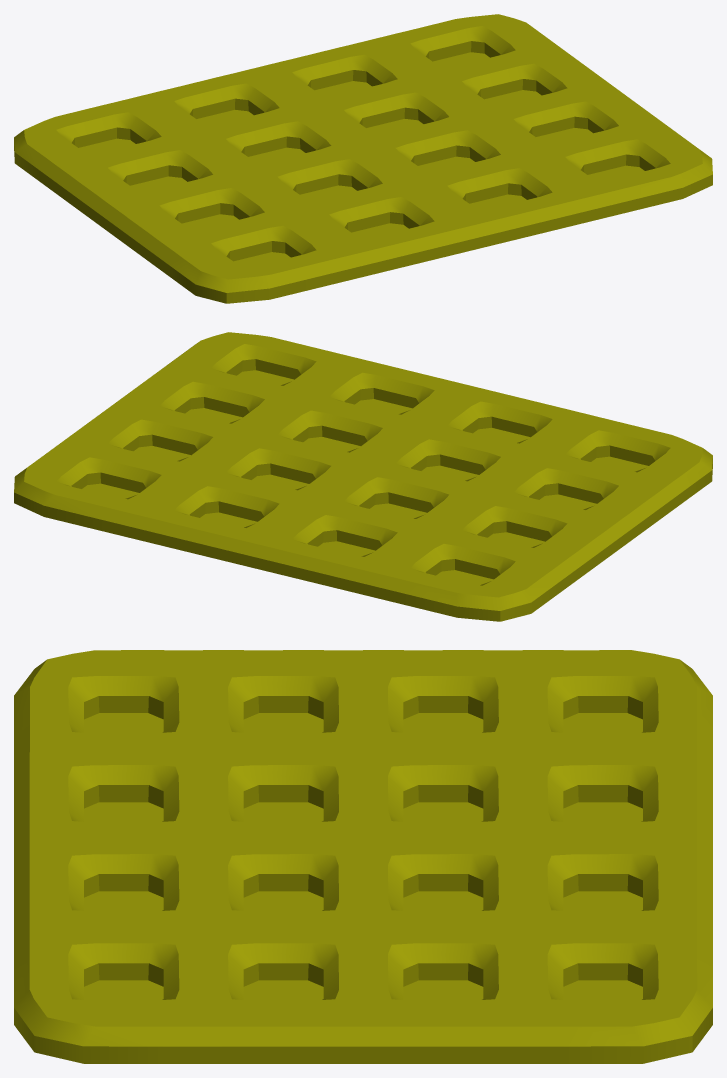
The model's file is crate.fbx.
3 renders of one model, top to bottom at view 1: azimuth 30°, elevation 25°; view 2: azimuth 150°, elevation 25°; view 3: azimuth 270°, elevation 25°, orthographic. The views are drawn at different scales.
Parts seen in each view (by area): view 1: pasted__pasted__pCube13; view 2: pasted__pasted__pCube13; view 3: pasted__pasted__pCube13.
Part boxes in pixels (x1=…): pasted__pasted__pCube13: x1=14, y1=14, x2=712, y2=303; pasted__pasted__pCube13: x1=14, y1=332, x2=712, y2=621; pasted__pasted__pCube13: x1=14, y1=650, x2=712, y2=1063.
Bounding box in the file's own units: 11.96 × 0.4382 × 9.07.
